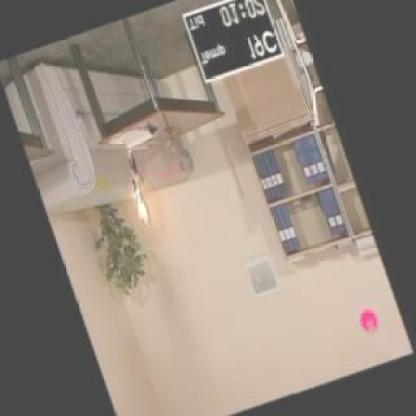Fire: (122, 154, 155, 230)
